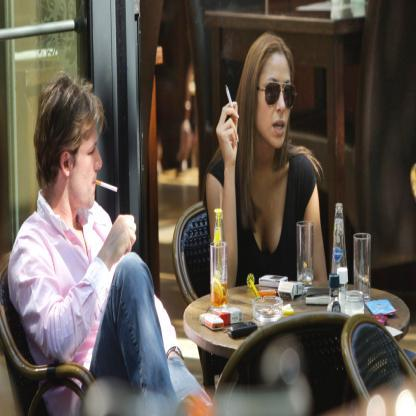cigarette: (95, 180, 119, 192), (226, 84, 234, 106)
person: (10, 72, 174, 400), (206, 32, 326, 278)
